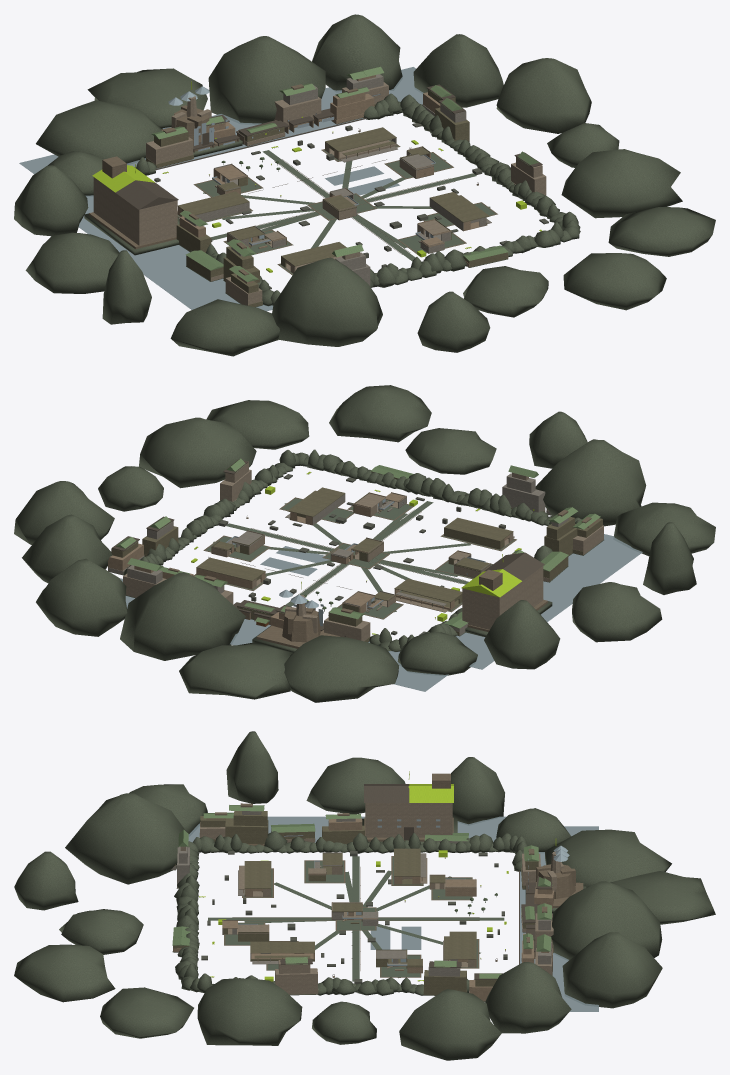
The model's file is kohan-lod1.glb.
The picture shows the model from 3 angles, top to bottom: view 1: azimuth 30°, elevation 25°; view 2: azimuth 150°, elevation 25°; view 3: azimuth 270°, elevation 25°; orthographic projection. The views are drawn at different scales.
Visible parts, largest first — view 1: HB_kohan_LOD1_terrain, HB_kohan_LOD1_wall_weathered, HB_kohan_LOD1_water, HB_kohan_LOD1_wall, HB_kohan_LOD1_road, HB_kohan_LOD1_wall_cool, HB_kohan_LOD1_wall_warm, HB_kohan_LOD1_roof, HB_kohan_LOD1_LANDMARK_1_wall, HB_kohan_LOD1_trim, HB_kohan_LOD1_wall_alt, HB_kohan_LOD1_LANDMARK_1_trim (+6 smaller); view 2: HB_kohan_LOD1_terrain, HB_kohan_LOD1_wall_weathered, HB_kohan_LOD1_water, HB_kohan_LOD1_road, HB_kohan_LOD1_wall, HB_kohan_LOD1_wall_cool, HB_kohan_LOD1_roof, HB_kohan_LOD1_wall_warm, HB_kohan_LOD1_LANDMARK_1_wall, HB_kohan_LOD1_wall_alt, HB_kohan_LOD1_LANDMARK_0_wall_alt, HB_kohan_LOD1_obstacle (+4 smaller); view 3: HB_kohan_LOD1_terrain, HB_kohan_LOD1_wall_weathered, HB_kohan_LOD1_road, HB_kohan_LOD1_wall, HB_kohan_LOD1_water, HB_kohan_LOD1_roof, HB_kohan_LOD1_wall_warm, HB_kohan_LOD1_LANDMARK_1_wall, HB_kohan_LOD1_wall_cool, HB_kohan_LOD1_wall_alt, HB_kohan_LOD1_trim, HB_kohan_LOD1_obstacle (+3 smaller).
Part boxes in pixels (x1=…): HB_kohan_LOD1_terrain: x1=14, y1=14, x2=715, y2=356; HB_kohan_LOD1_wall_weathered: x1=146, y1=89, x2=507, y2=306; HB_kohan_LOD1_water: x1=19, y1=67, x2=423, y2=311; HB_kohan_LOD1_wall: x1=146, y1=82, x2=546, y2=305; HB_kohan_LOD1_road: x1=177, y1=140, x2=497, y2=275; HB_kohan_LOD1_wall_cool: x1=184, y1=74, x2=491, y2=286; HB_kohan_LOD1_wall_warm: x1=177, y1=75, x2=508, y2=283; HB_kohan_LOD1_roof: x1=151, y1=66, x2=538, y2=282; HB_kohan_LOD1_LANDMARK_1_wall: x1=93, y1=177, x2=177, y2=245; HB_kohan_LOD1_trim: x1=156, y1=84, x2=542, y2=253; HB_kohan_LOD1_wall_alt: x1=163, y1=84, x2=497, y2=275; HB_kohan_LOD1_LANDMARK_1_trim: x1=115, y1=180, x2=178, y2=209; HB_kohan_LOD1_terrain: x1=14, y1=385, x2=715, y2=702; HB_kohan_LOD1_wall_weathered: x1=111, y1=471, x2=602, y2=642; HB_kohan_LOD1_water: x1=119, y1=534, x2=642, y2=691; HB_kohan_LOD1_road: x1=194, y1=498, x2=516, y2=619; HB_kohan_LOD1_wall: x1=123, y1=461, x2=603, y2=641; HB_kohan_LOD1_wall_cool: x1=108, y1=473, x2=568, y2=635; HB_kohan_LOD1_roof: x1=116, y1=458, x2=600, y2=628; HB_kohan_LOD1_wall_warm: x1=108, y1=492, x2=598, y2=628; HB_kohan_LOD1_LANDMARK_1_wall: x1=462, y1=566, x2=543, y2=629; HB_kohan_LOD1_wall_alt: x1=168, y1=497, x2=591, y2=631; HB_kohan_LOD1_LANDMARK_0_wall_alt: x1=256, y1=607, x2=340, y2=648; HB_kohan_LOD1_obstacle: x1=218, y1=474, x2=505, y2=635; HB_kohan_LOD1_terrain: x1=14, y1=731, x2=715, y2=1060; HB_kohan_LOD1_wall_weathered: x1=173, y1=811, x2=538, y2=995; HB_kohan_LOD1_road: x1=208, y1=856, x2=504, y2=981; HB_kohan_LOD1_wall: x1=180, y1=822, x2=553, y2=994; HB_kohan_LOD1_water: x1=188, y1=816, x2=598, y2=1011; HB_kohan_LOD1_roof: x1=172, y1=805, x2=552, y2=978; HB_kohan_LOD1_wall_warm: x1=173, y1=818, x2=554, y2=1001; HB_kohan_LOD1_LANDMARK_1_wall: x1=365, y1=803, x2=452, y2=837; HB_kohan_LOD1_wall_cool: x1=171, y1=811, x2=551, y2=992; HB_kohan_LOD1_wall_alt: x1=215, y1=803, x2=547, y2=977; HB_kohan_LOD1_trim: x1=203, y1=835, x2=552, y2=981; HB_kohan_LOD1_obstacle: x1=201, y1=850, x2=507, y2=983.
Bounding box in the file's own units: 600 × 65.16 × 630.
Materials: 15 (13 with a texture image).
